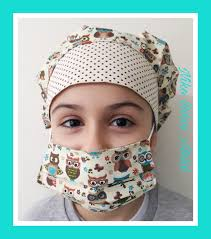with_mask_and_cap: (44, 26, 161, 208)
